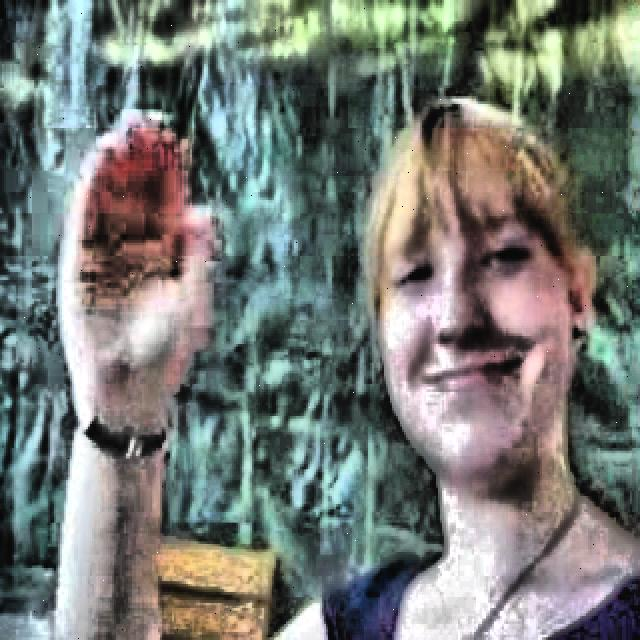T: (35, 90, 640, 634)
